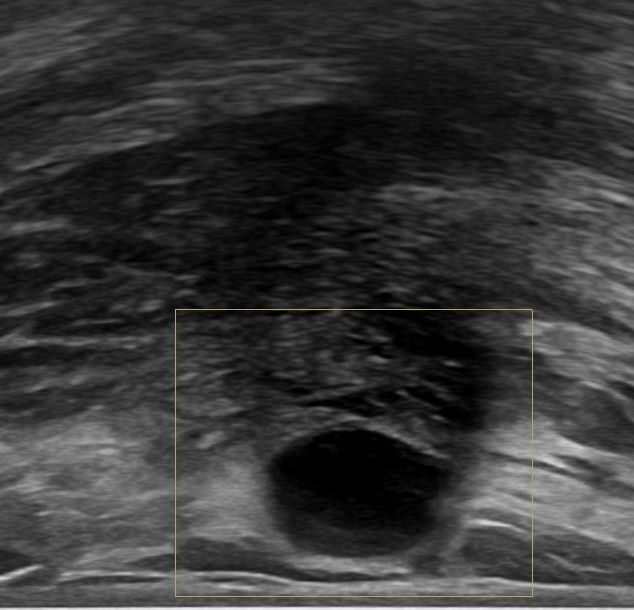Benign: (268, 415, 442, 547)
